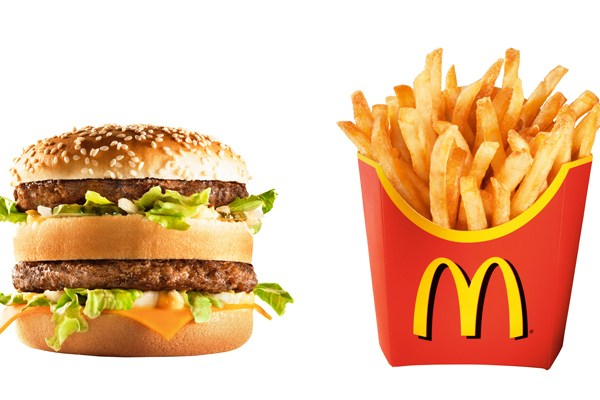mcdonalds: (409, 252, 532, 351)
